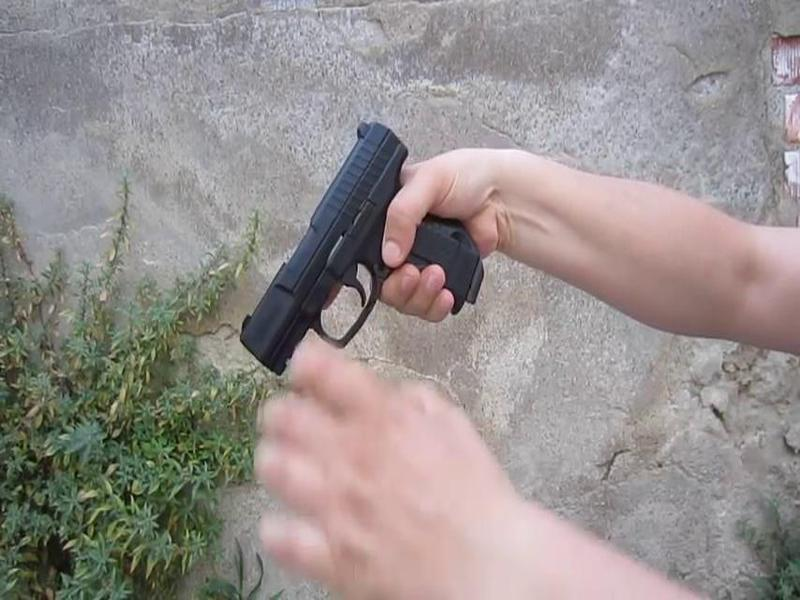Pistola: (208, 109, 487, 395)
